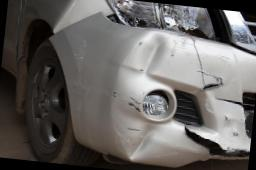Bumper: (64, 26, 254, 165)
